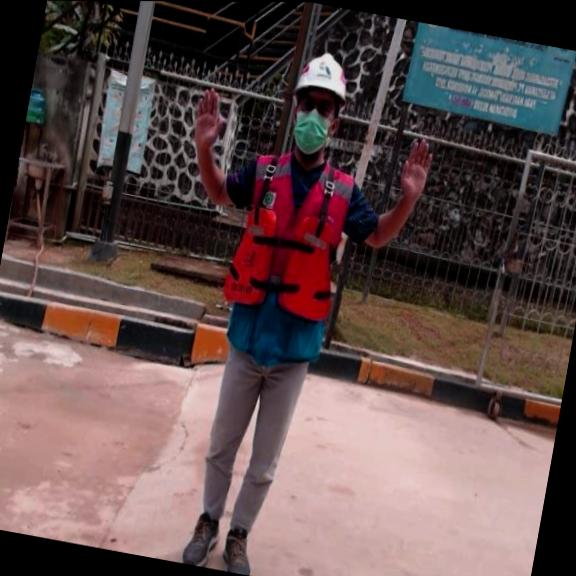safety_vest: (216, 196, 348, 326)
